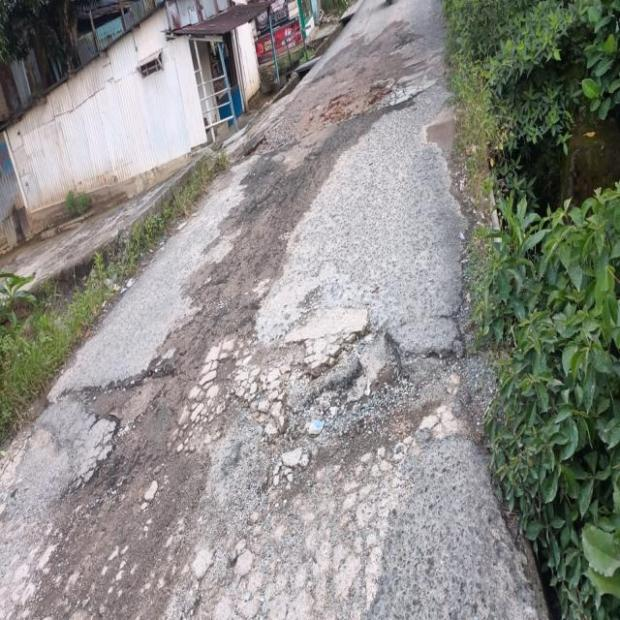lubang: (232, 66, 439, 160)
